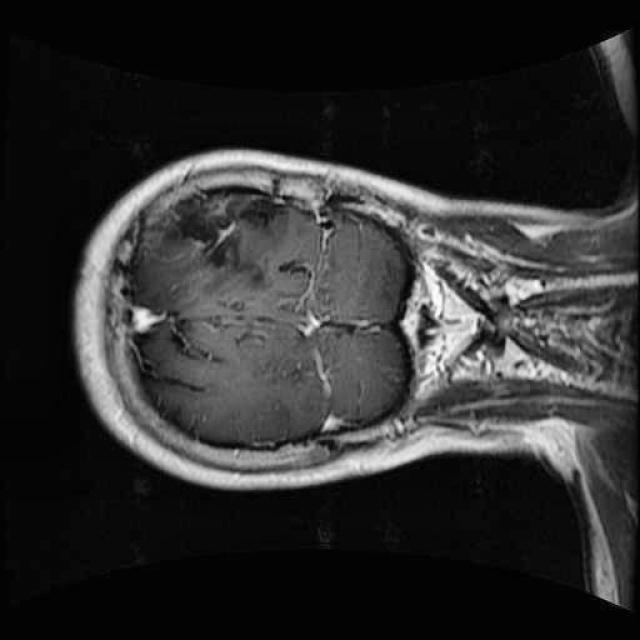Non-Tumor: (136, 176, 301, 291)
